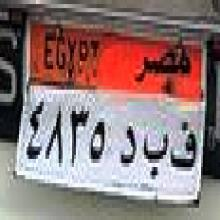3: (68, 97, 89, 172)
4: (24, 96, 44, 168)
5: (89, 117, 107, 174)
8: (45, 97, 64, 174)
baa: (142, 128, 169, 184)
daal: (118, 120, 138, 176)
faa: (170, 118, 200, 184)
